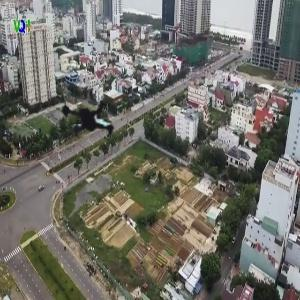drone: (10, 17, 175, 182)
